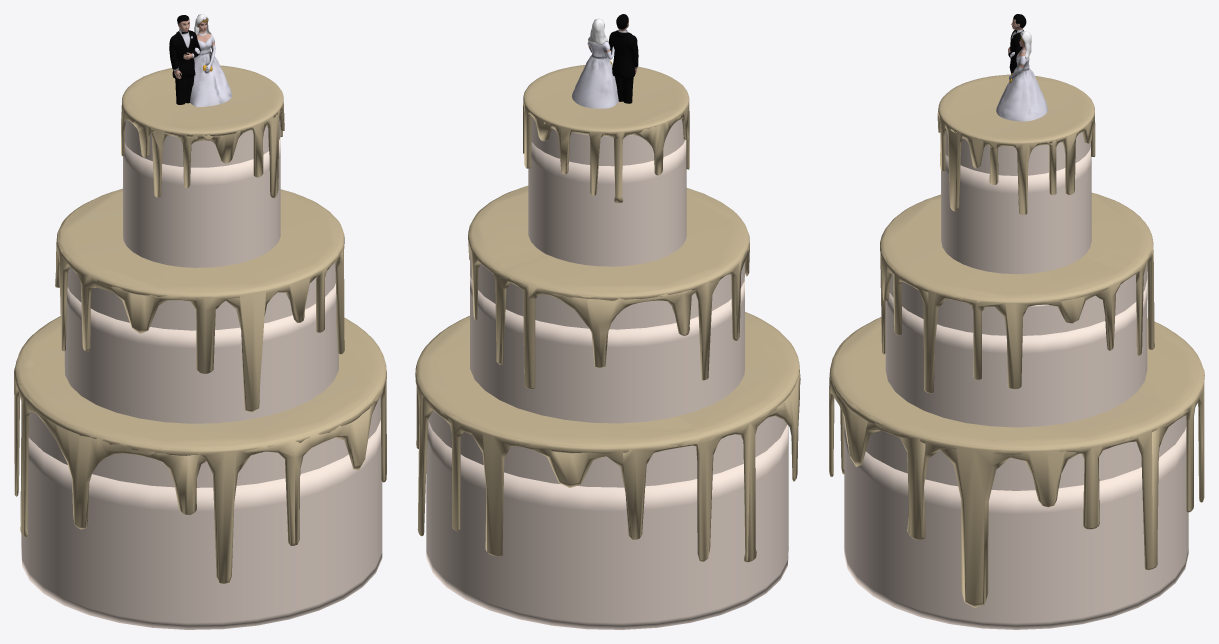
Rendered from 3-tier-white-ganache-bridegroom.glb.
3 views of the same model, side by side, from view 1: azimuth 30°, elevation 25°; view 2: azimuth 150°, elevation 25°; view 3: azimuth 270°, elevation 25° (orthographic). The views are drawn at different scales.
Parts seen in each view (by area): view 1: Cylinder.022, tHE ICING.005, Cylinder.014, tHE ICING.002, Cylinder.021, tHE ICING.001, 13501_Cake_Topper_Bride_Groom_v1_L1.002; view 2: Cylinder.022, tHE ICING.005, Cylinder.014, tHE ICING.002, Cylinder.021, tHE ICING.001, 13501_Cake_Topper_Bride_Groom_v1_L1.002; view 3: Cylinder.022, tHE ICING.005, Cylinder.014, tHE ICING.002, Cylinder.021, tHE ICING.001, 13501_Cake_Topper_Bride_Groom_v1_L1.002.
Part boxes in pixels (<box>): Cylinder.022: <box>21,396,382,629</box>; tHE ICING.005: <box>14,316,386,584</box>; Cylinder.014: <box>64,262,338,423</box>; tHE ICING.002: <box>55,188,344,412</box>; Cylinder.021: <box>123,119,280,267</box>; tHE ICING.001: <box>121,65,284,198</box>; 13501_Cake_Topper_Bride_Groom_v1_L1.002: <box>169,14,231,106</box>; Cylinder.022: <box>426,411,788,629</box>; tHE ICING.005: <box>415,312,800,562</box>; Cylinder.014: <box>470,249,744,423</box>; tHE ICING.002: <box>468,186,749,389</box>; Cylinder.021: <box>528,116,686,266</box>; tHE ICING.001: <box>523,64,689,203</box>; 13501_Cake_Topper_Bride_Groom_v1_L1.002: <box>572,14,638,108</box>; Cylinder.022: <box>844,416,1188,629</box>; tHE ICING.005: <box>829,317,1204,607</box>; Cylinder.014: <box>885,262,1147,427</box>; tHE ICING.002: <box>880,192,1154,393</box>; Cylinder.021: <box>941,130,1091,274</box>; tHE ICING.001: <box>937,74,1095,214</box>; 13501_Cake_Topper_Bride_Groom_v1_L1.002: <box>996,14,1047,121</box>.
Bounding box in the file's own units: 4.33 × 6.91 × 4.43.
3 materials, 1 textured.
